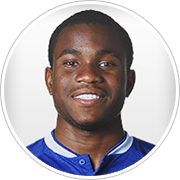smile: (68, 89, 107, 105)
